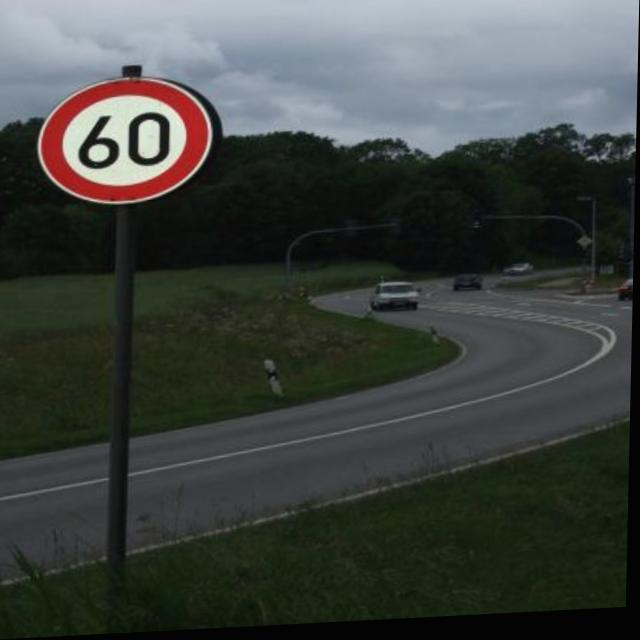limit60: (32, 73, 223, 216)
